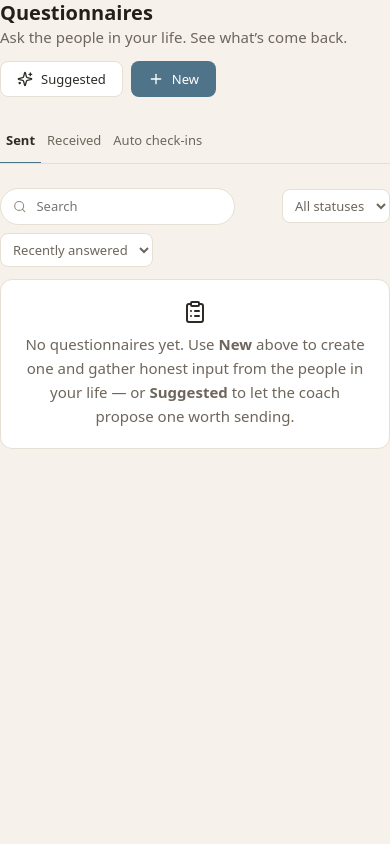
Test: Questionnaires › marks a saved-but-incomplete questionnaire as a Draft and disables Send (38 §3.4)
The image size is (390, 844).
Click the button "New": x=173, y=79 x1=131 y1=61 x2=216 y2=97
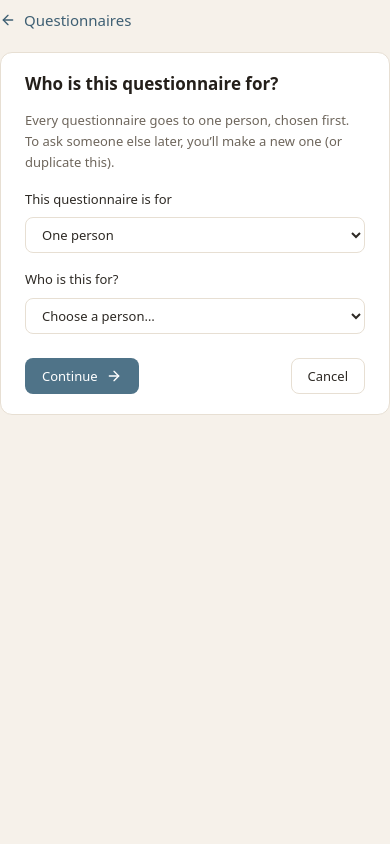
Select "Mara" in the dropdown labelled "Who is this for?": x=195, y=316 x1=25 y1=298 x2=365 y2=334
Click the button "Continue": x=82, y=376 x1=25 y1=358 x2=139 y2=394
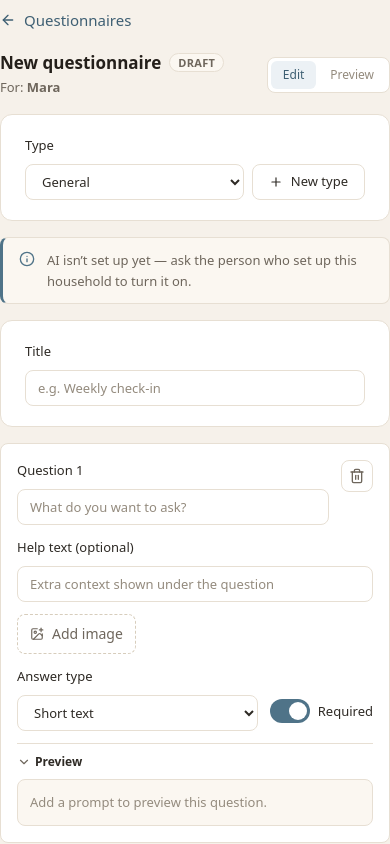
Expected: the field labelled "Title" is shown
In the field labelled "Title": x=195, y=388 x1=25 y1=370 x2=365 y2=406, type "Q"
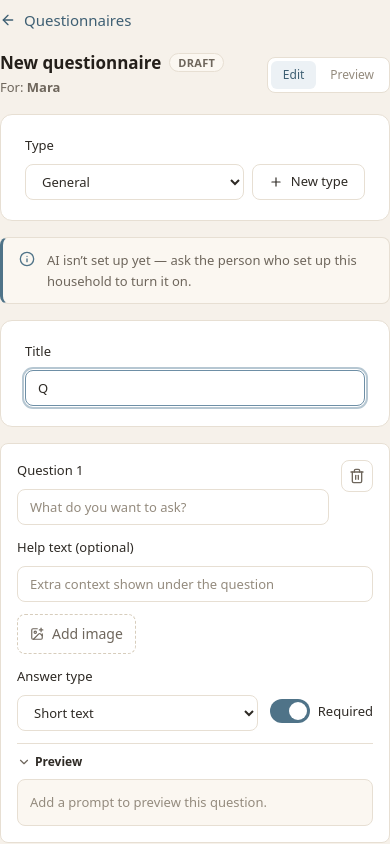
In the field labelled "Question 1": x=173, y=507 x1=17 y1=489 x2=329 y2=525, type "Pick one"
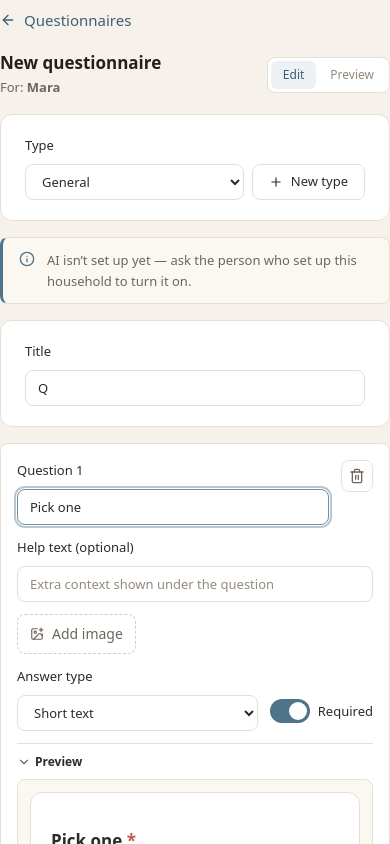
Select "Single choice" in the dropdown labelled "Answer type": x=137, y=713 x1=17 y1=695 x2=258 y2=731
(page scrolled)
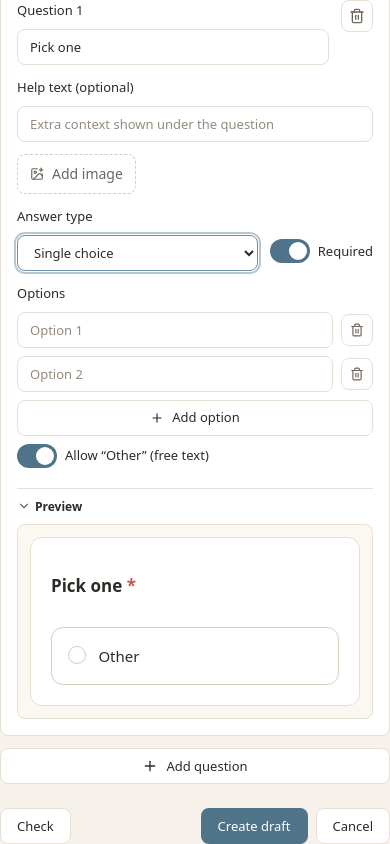
Click the button "Create draft": x=254, y=826 x1=201 y1=808 x2=308 y2=843
(page scrolled)
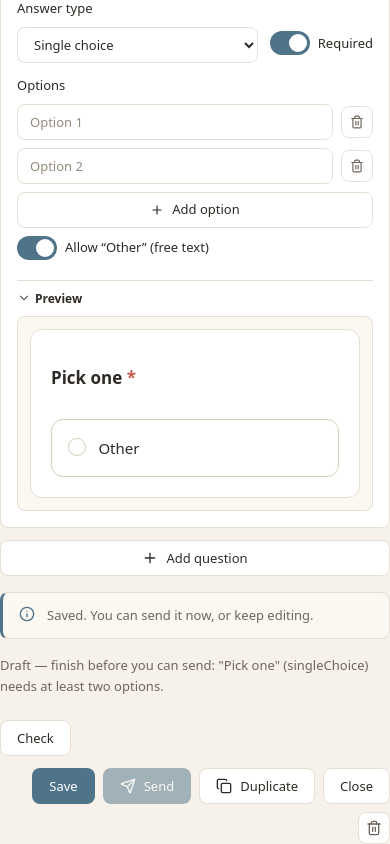
Expected: the button "Send" is disabled, x1=103 y1=768 x2=191 y2=804
Expected: the text "finish before you can send" is shown, x1=0 y1=656 x2=218 y2=674
